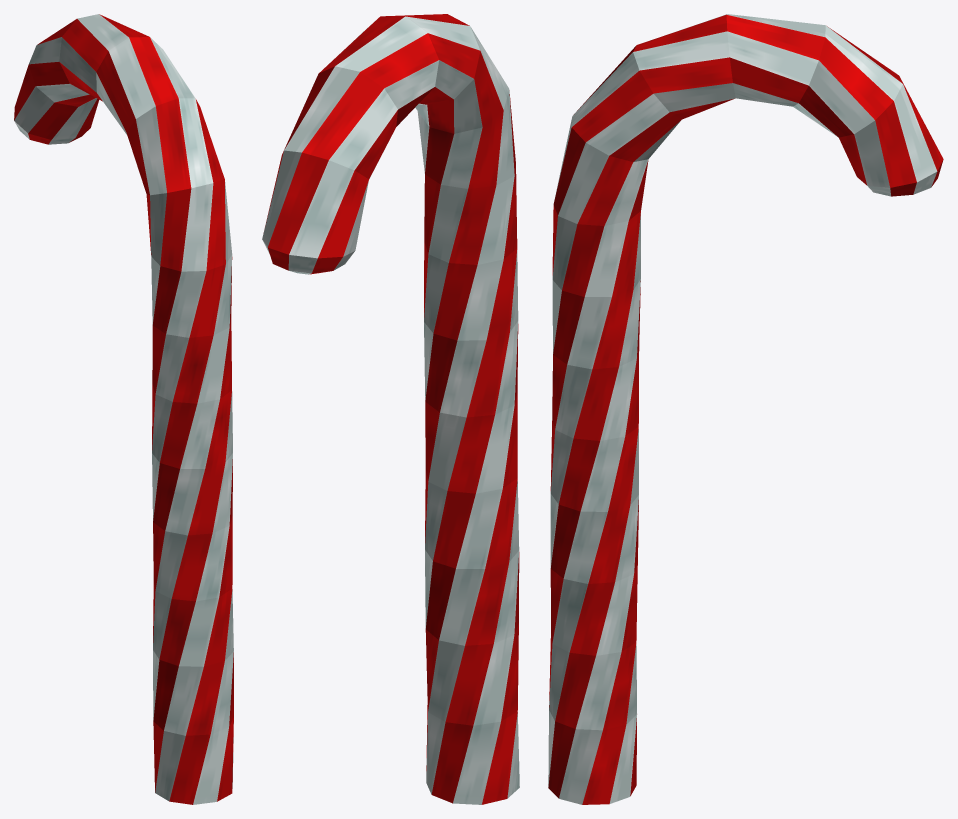
File: cane1.fbx
3 views of the same model, side by side, from view 1: azimuth 30°, elevation 25°; view 2: azimuth 150°, elevation 25°; view 3: azimuth 270°, elevation 25° (orthographic). The views are drawn at different scales.
Parts seen in each view (by area): view 1: Red bake; view 2: Red bake; view 3: Red bake.
Boxes of the visible parts, left/top/right/bottom form: Red bake: left=14, top=14, right=233, bottom=804; Red bake: left=262, top=14, right=519, bottom=804; Red bake: left=548, top=14, right=943, bottom=804.
Bounding box in the file's own units: 120 × 1153 × 536.
2 materials, 2 textured.
